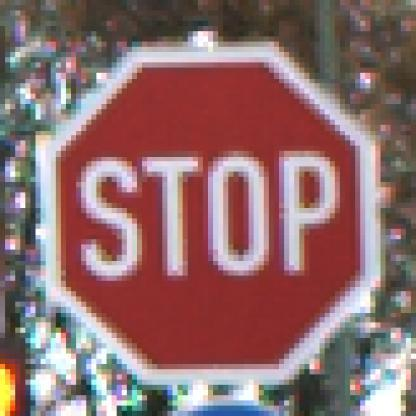Stop: (47, 58, 370, 382)
